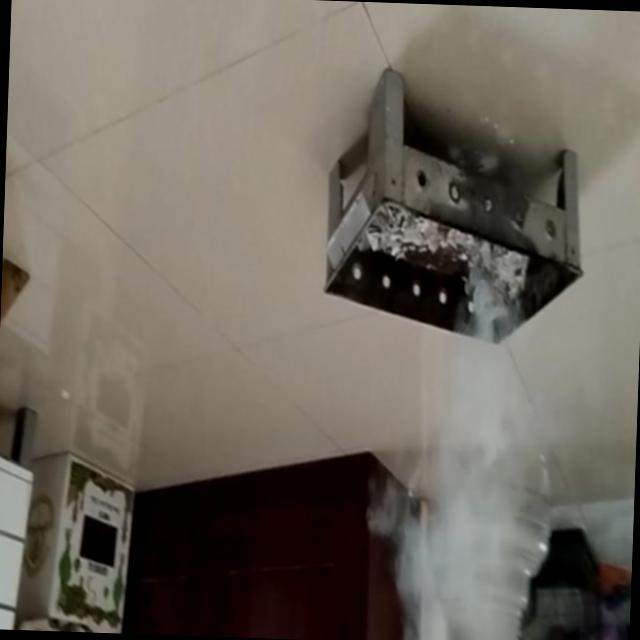smoke: (366, 235, 564, 640)
